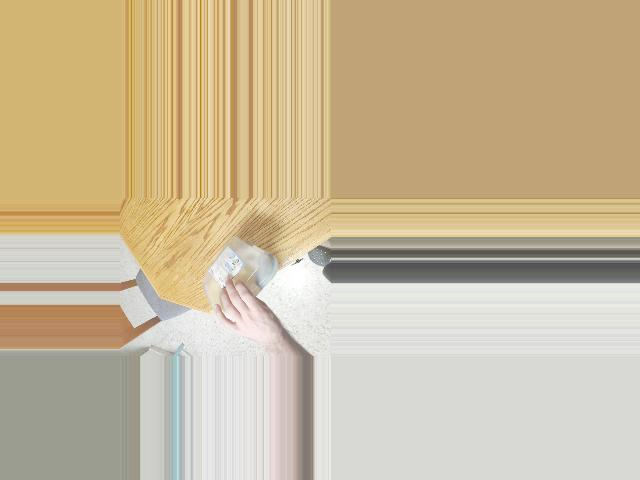cheese: (199, 235, 274, 329)
